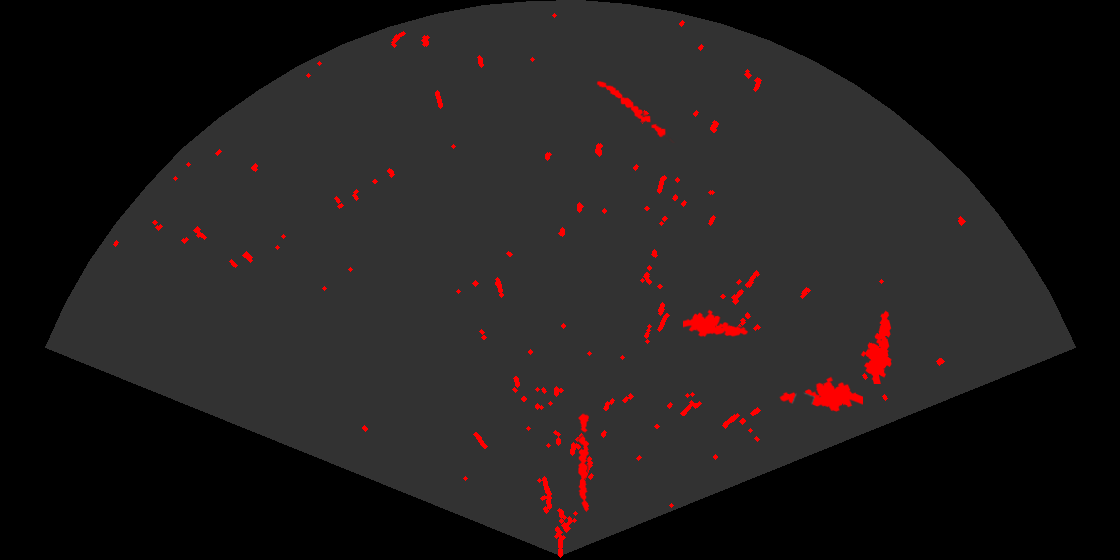chain: (595, 79, 676, 143), (577, 411, 591, 512)
frogman: (778, 375, 863, 413), (859, 309, 893, 384), (683, 308, 750, 339)
